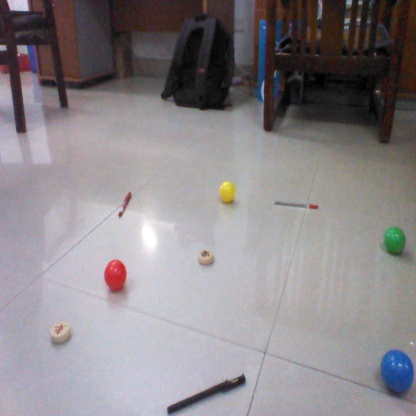ball: (377, 347, 416, 395), (100, 257, 126, 294), (382, 224, 408, 255), (217, 180, 242, 204)
chess: (49, 321, 77, 341), (198, 247, 220, 267)
pen: (165, 373, 244, 415), (272, 197, 320, 212), (118, 191, 134, 218)
